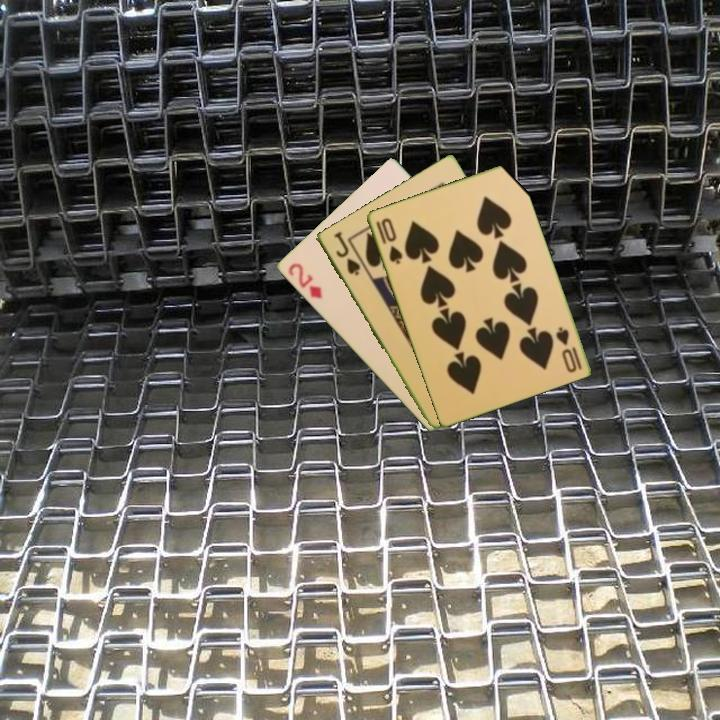10s: (372, 214, 405, 267), (552, 323, 584, 375)
2d: (284, 259, 325, 301)
Js: (330, 229, 363, 279)
